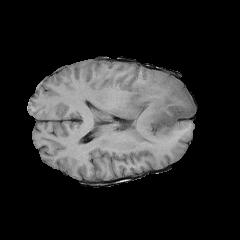glioma: (115, 75, 193, 135)
